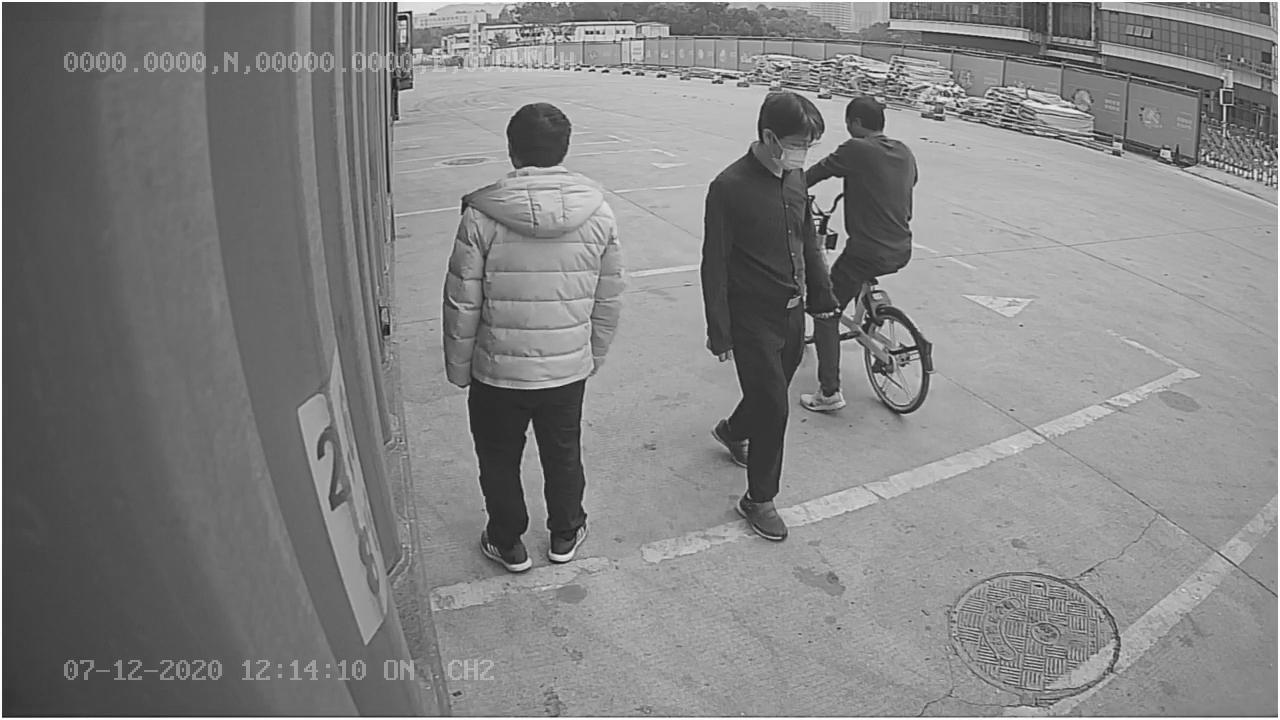person: (438, 97, 625, 572)
